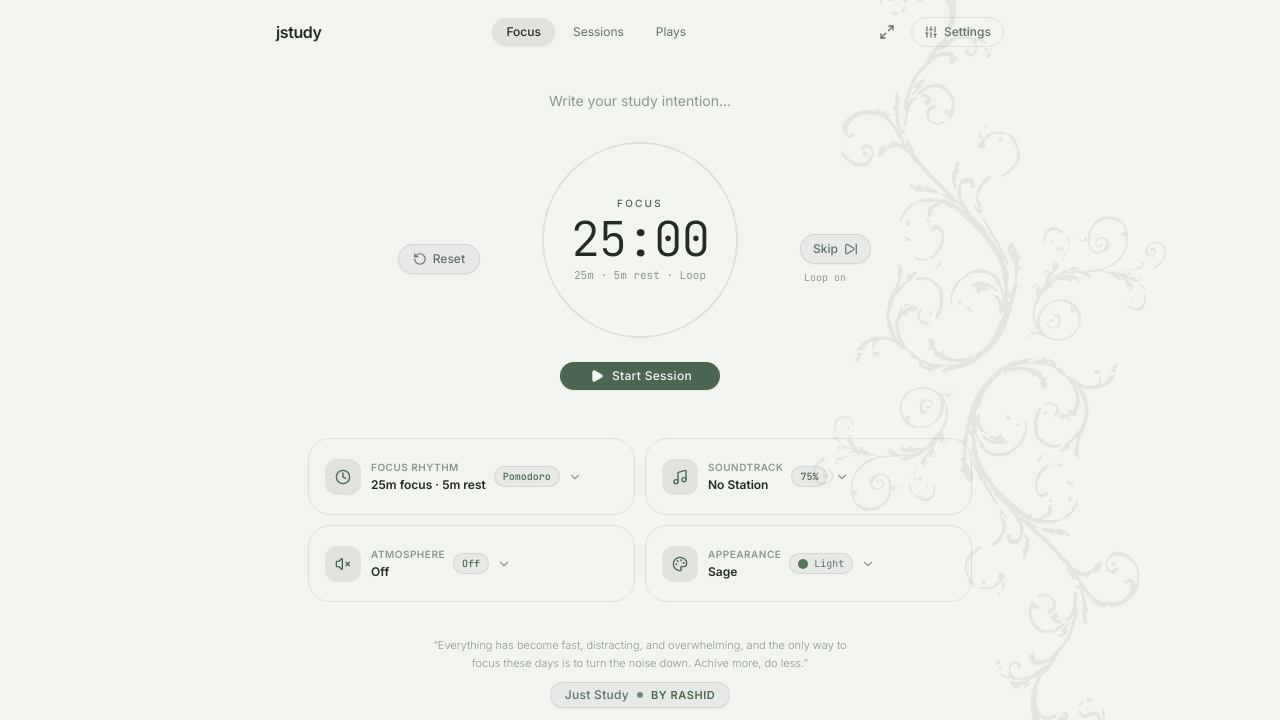
Test: App React Component Integration › renders navigation tabs and switches between Focus, Sessions, and Plays
The width and height of the screenshot is (1280, 720).
Expected: the tab "Focus" is shown, [492,18,555,46]
Expected: the tab "Plays" is shown, [642,18,700,46]
// Trigger Radix Tabs switch
Click the tab "Sessions" at (598, 32), box [559,18,638,46]
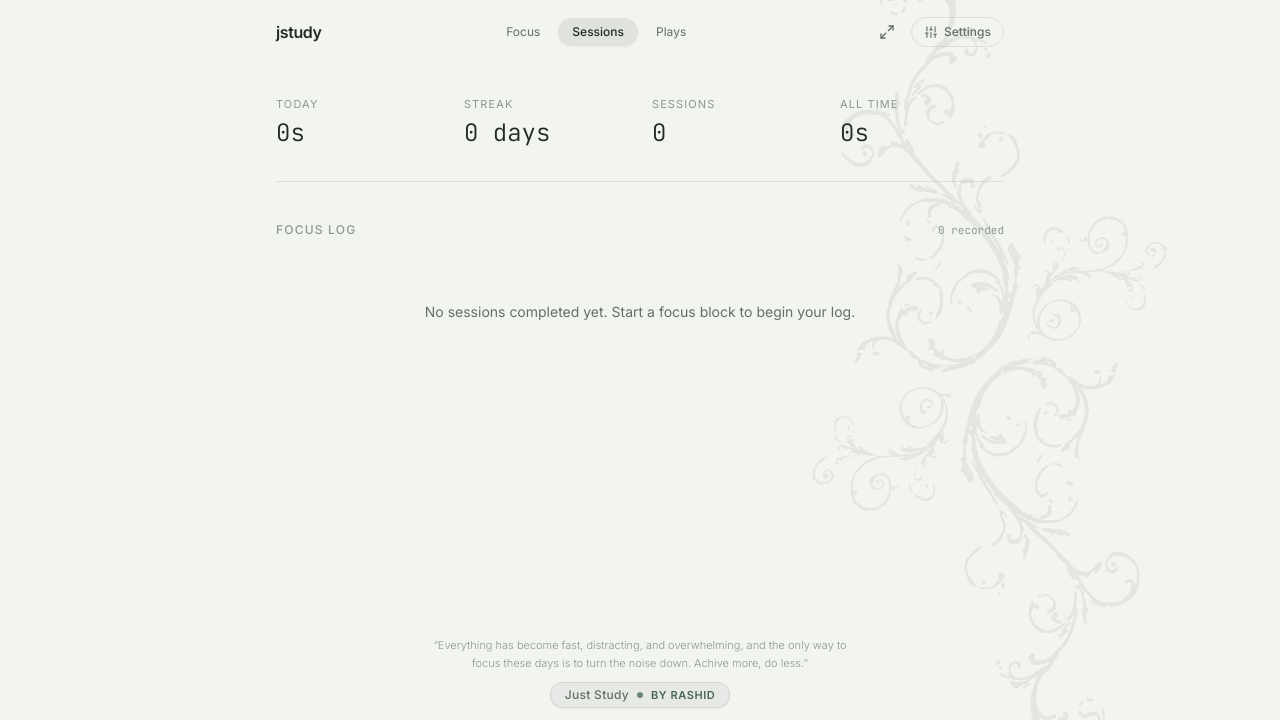
Result: the heading "Focus Log" is shown at [276,222,356,238]
// Switch to Plays tab
Click the tab "Plays" at (671, 32), box [642,18,700,46]
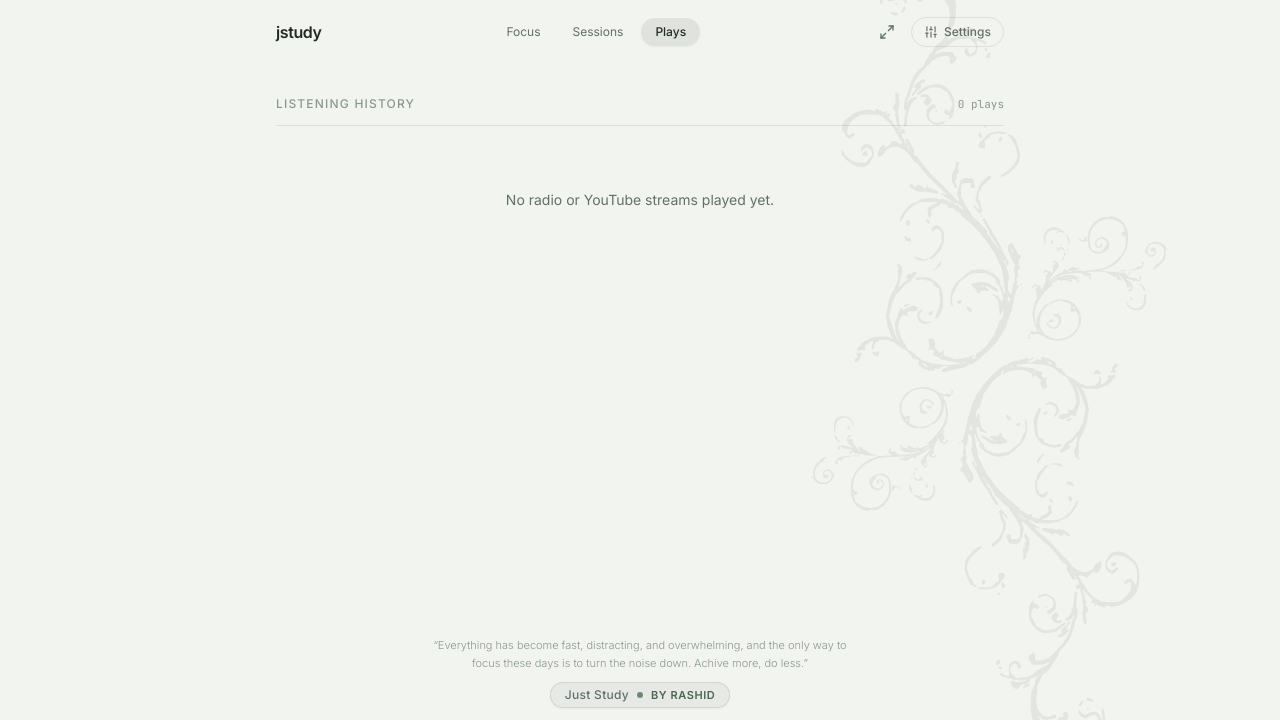
Result: the heading "Listening History" is shown at [276,96,415,112]
// Switch back to Focus tab
Click the tab "Focus" at (523, 32), box [492,18,554,46]
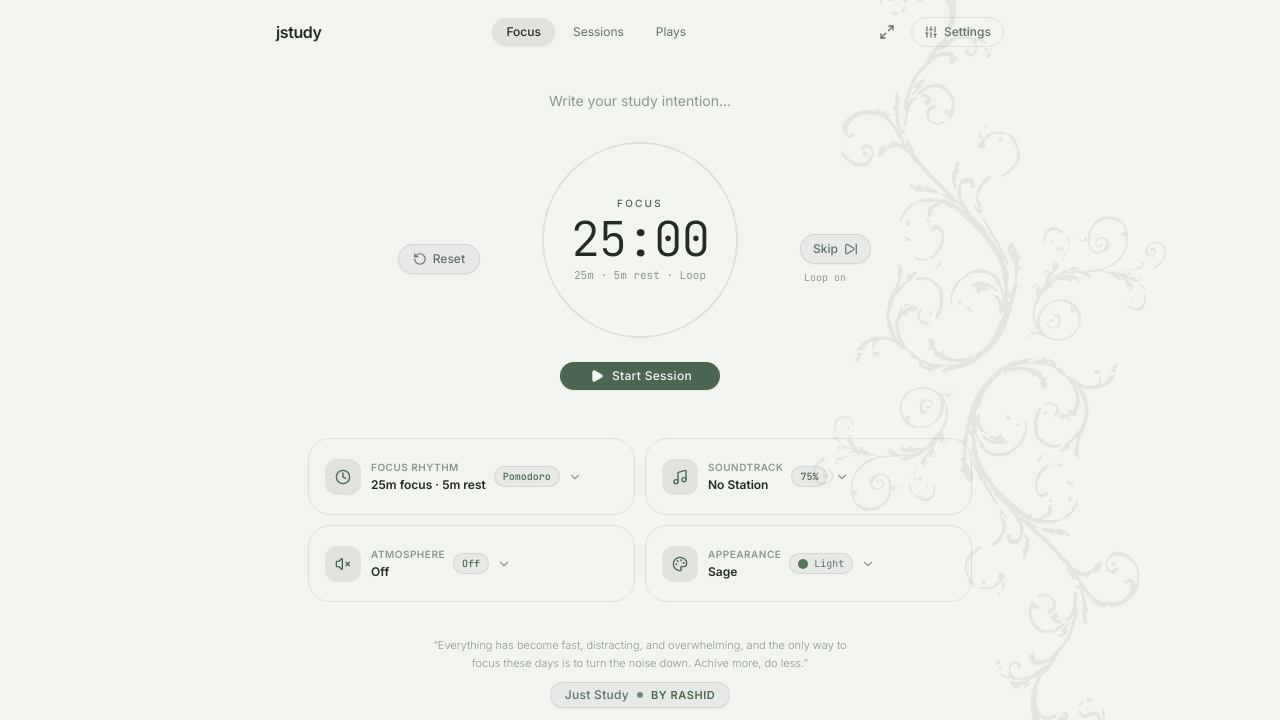
Result: the button "Start Session" is shown at [560,362,720,390]
